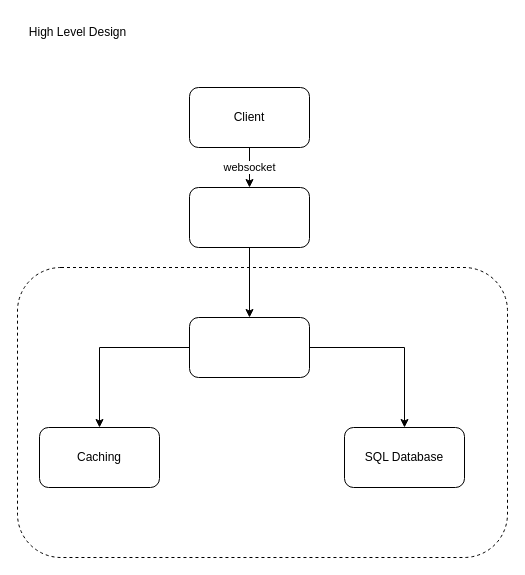
Some shapes in this 525 by 575 pixel diagram are drawn without their labels. Each missing label, with the centre of its shape:
"Application" goes at point (249, 347).
"Load Balancer" goes at point (249, 217).
